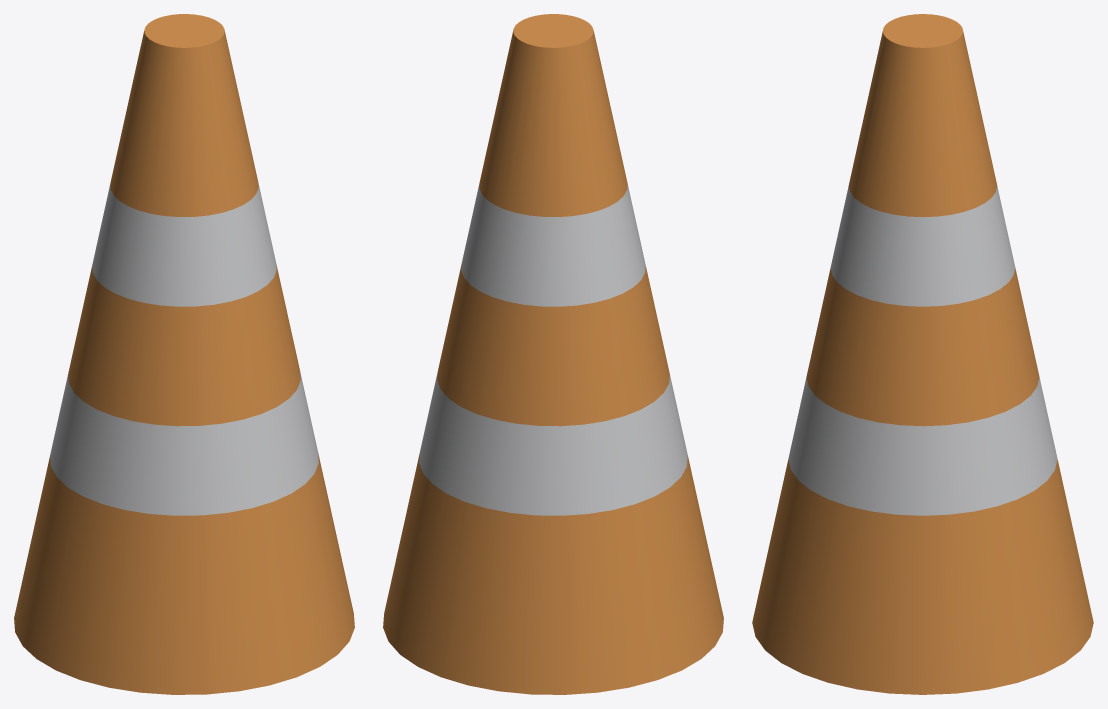
The picture shows the model from 3 angles, left to right: view 1: azimuth 30°, elevation 25°; view 2: azimuth 150°, elevation 25°; view 3: azimuth 270°, elevation 25°; orthographic projection.
Parts seen in each view (by area): view 1: cone; view 2: cone; view 3: cone.
Boxes of the visible parts, bbox=[...] form: cone: bbox=[14, 14, 354, 694]; cone: bbox=[383, 14, 723, 694]; cone: bbox=[752, 14, 1093, 694].
Bounding box in the file's own units: 0.34 × 0.65 × 0.34.
